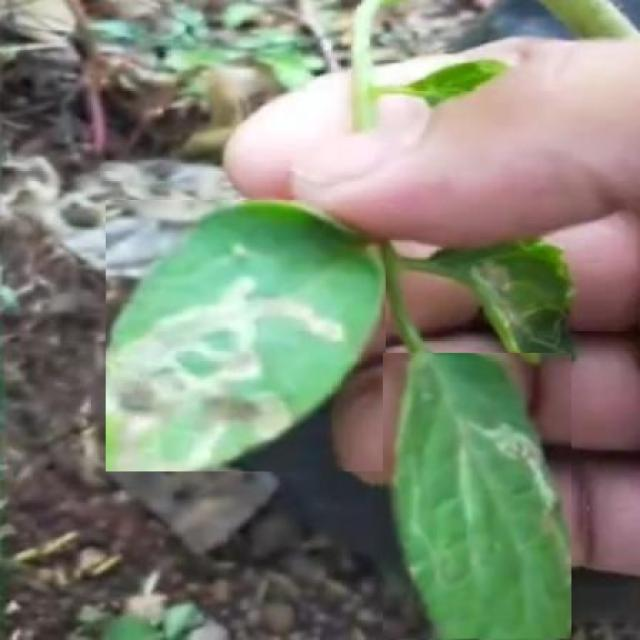Leaf Miner: (105, 200, 386, 471), (383, 354, 571, 639)
